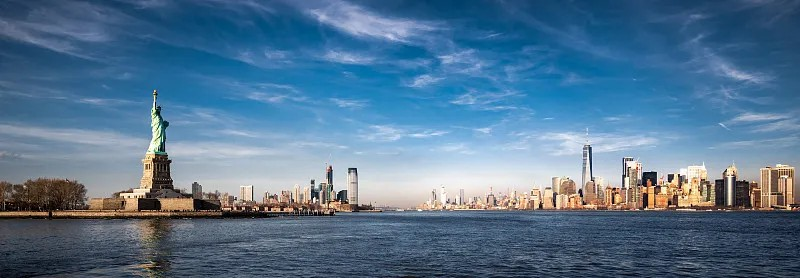SL: (139, 90, 174, 190)
